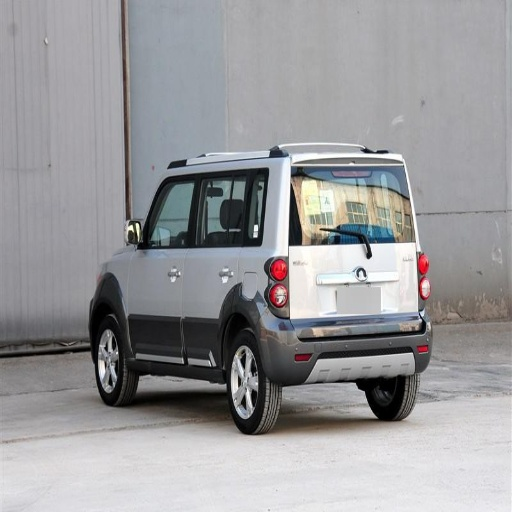back_bumper: (265, 315, 428, 380)
back_glass: (312, 202, 396, 242)
back_left_door: (183, 188, 243, 367)
trunk: (288, 242, 418, 339)
